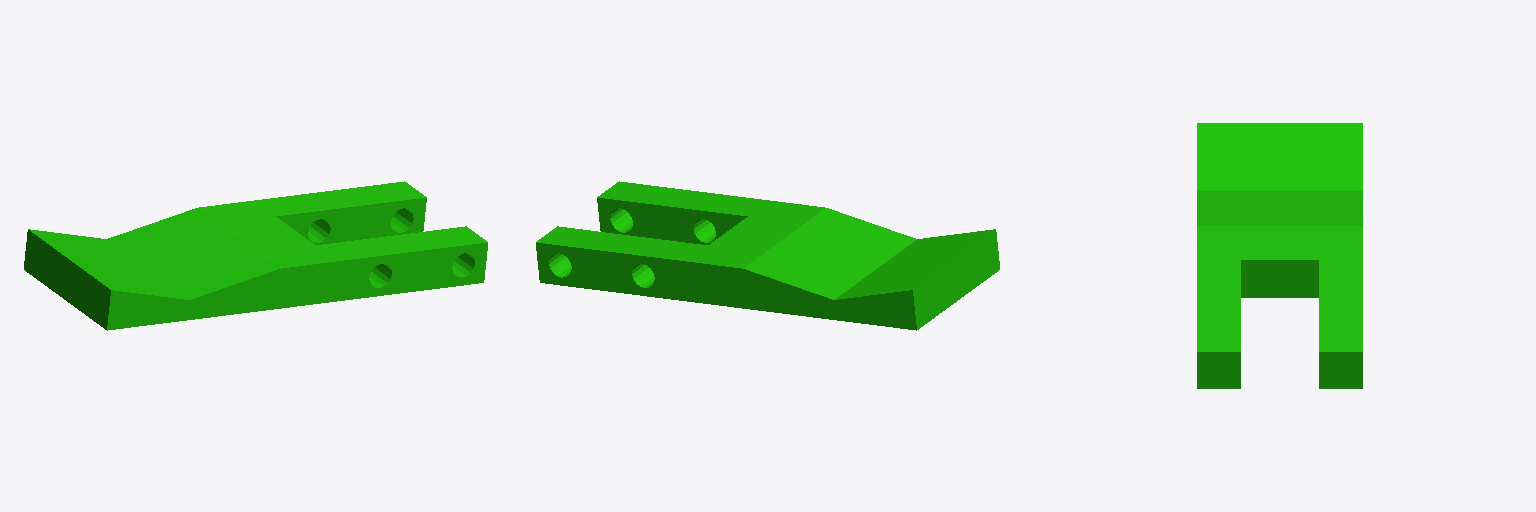
The model's file is shooter.obj.
3 renders of one model, left to right at view 1: azimuth 30°, elevation 25°; view 2: azimuth 150°, elevation 25°; view 3: azimuth 270°, elevation 25°, orthographic.
Parts seen in each view (by area): view 1: shooter; view 2: shooter; view 3: shooter.
Boxes of the visible parts, x1=… form: shooter: x1=24, y1=181, x2=487, y2=330; shooter: x1=536, y1=181, x2=999, y2=330; shooter: x1=1197, y1=123, x2=1362, y2=388.
Size of the model in its own units: 1 by 0.211 by 0.38.